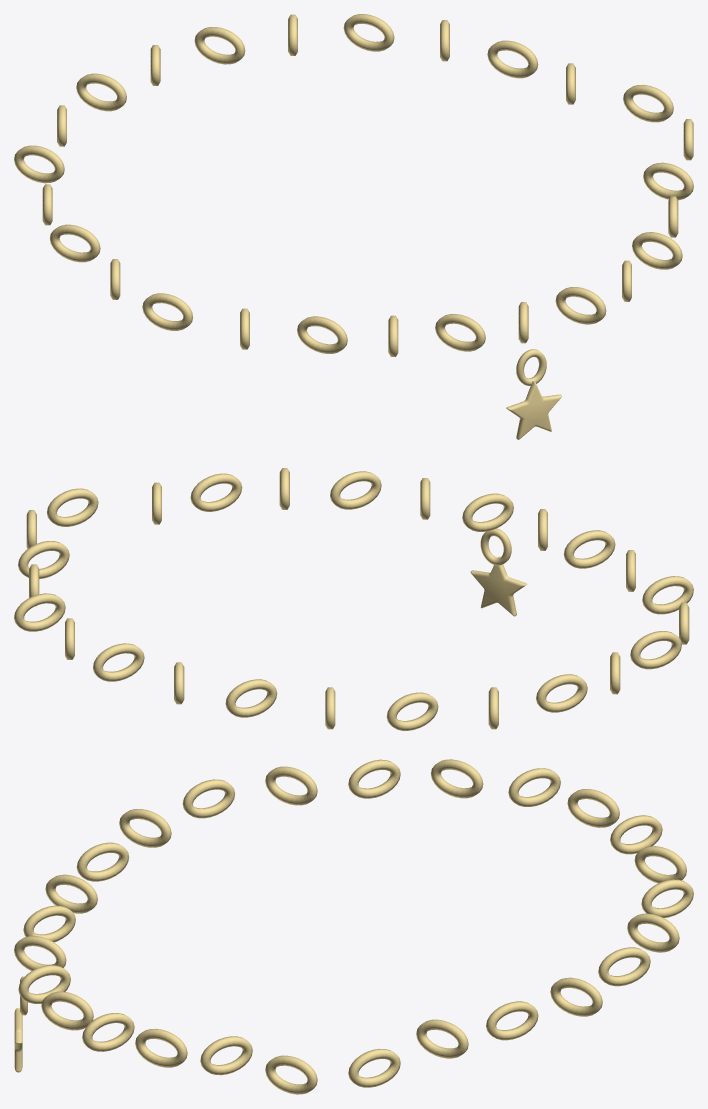
File: restart_chain_gold_chick.glb
3 views of the same model, one above another, from view 1: azimuth 30°, elevation 25°; view 2: azimuth 150°, elevation 25°; view 3: azimuth 270°, elevation 25° (orthographic). The views are drawn at different scales.
Parts seen in each view (by area): view 1: Estrella.003, Eslabón.093, Eslabón.101, Eslabón.097, Eslabón.103, Eslabón.087, Eslabón.095, Eslabón.085, Eslabón.089, Eslabón.091, Eslabón.079, Eslabón.099 (+3 smaller); view 2: Estrella.003, Eslabón.088, Eslabón.096, Eslabón.080, Eslabón.090, Eslabón.084, Eslabón.102, Eslabón.092, Eslabón.098, Eslabón.078, Eslabón.094, Eslabón.082 (+10 smaller); view 3: Eslabón.096, Eslabón.101, Eslabón.098, Eslabón.099, Eslabón.081, Eslabón.087, Eslabón.089, Eslabón.084, Eslabón.085, Eslabón.086, Eslabón.094, Eslabón.082 (+15 smaller).
Boxes of the visible parts, box(x1,y1,x2,y2) form: Estrella.003: box(506, 381, 561, 439); Eslabón.093: box(76, 73, 126, 111); Eslabón.101: box(297, 316, 347, 353); Eslabón.097: box(49, 224, 100, 262); Eslabón.103: box(435, 314, 485, 351); Eslabón.087: box(487, 40, 538, 78); Eslabón.095: box(14, 145, 64, 183); Eslabón.085: box(623, 84, 673, 122); Eslabón.089: box(343, 14, 394, 51); Eslabón.091: box(194, 27, 245, 64); Eslabón.079: box(555, 287, 606, 324); Eslabón.099: box(142, 293, 192, 330); Estrella.003: box(470, 556, 526, 616); Eslabón.088: box(14, 593, 65, 631); Eslabón.096: box(536, 674, 587, 712); Eslabón.080: box(330, 471, 381, 509); Eslabón.090: box(93, 643, 144, 681); Eslabón.084: box(47, 488, 98, 526); Eslabón.102: box(563, 530, 615, 568); Eslabón.092: box(225, 679, 277, 717); Eslabón.098: box(630, 631, 681, 669); Eslabón.078: box(462, 493, 513, 531); Eslabón.094: box(386, 692, 438, 730); Eslabón.082: box(190, 473, 242, 511); Eslabón.096: box(431, 759, 483, 798); Eslabón.101: box(76, 842, 129, 881); Eslabón.098: box(265, 766, 317, 805); Eslabón.099: box(182, 779, 235, 818); Eslabón.081: box(82, 1013, 134, 1051); Eslabón.087: box(486, 1001, 538, 1040); Eslabón.089: box(598, 947, 650, 986); Eslabón.084: box(265, 1055, 317, 1094); Eslabón.085: box(348, 1048, 400, 1087); Eslabón.086: box(416, 1019, 468, 1058); Eslabón.094: box(567, 789, 619, 827); Eslabón.082: box(135, 1028, 187, 1067).
Bounding box in the file's own units: 0.5293 × 0.1488 × 0.5018.
